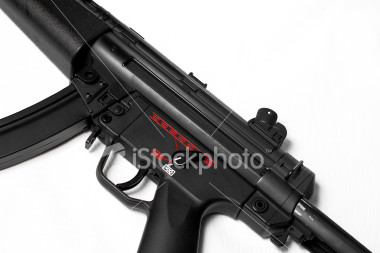rifle: (1, 4, 374, 250)
